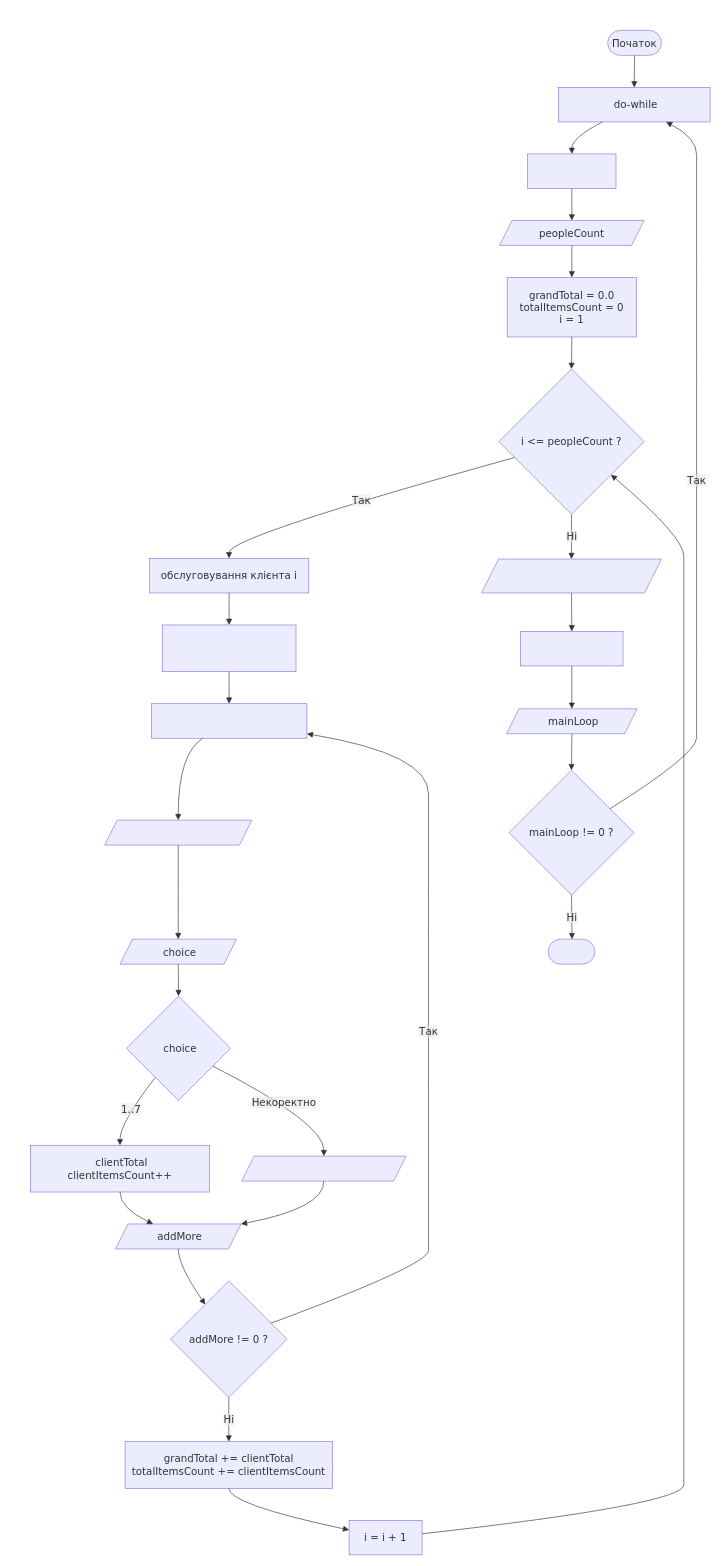
This 721x1566 diagram has some shape labels left out. The centre of each missing label's shape, as x and y in pixels:
clientTotal = 0.0 clientItemsCount = 0: [229,648]
Error: [323,1168]
grandTotal: [571,575]
system 'cls': [571,170]
system 'pause': [571,648]
Кінець: [571,951]
показ меню: [178,832]
цикл замовлення страви: [229,720]
